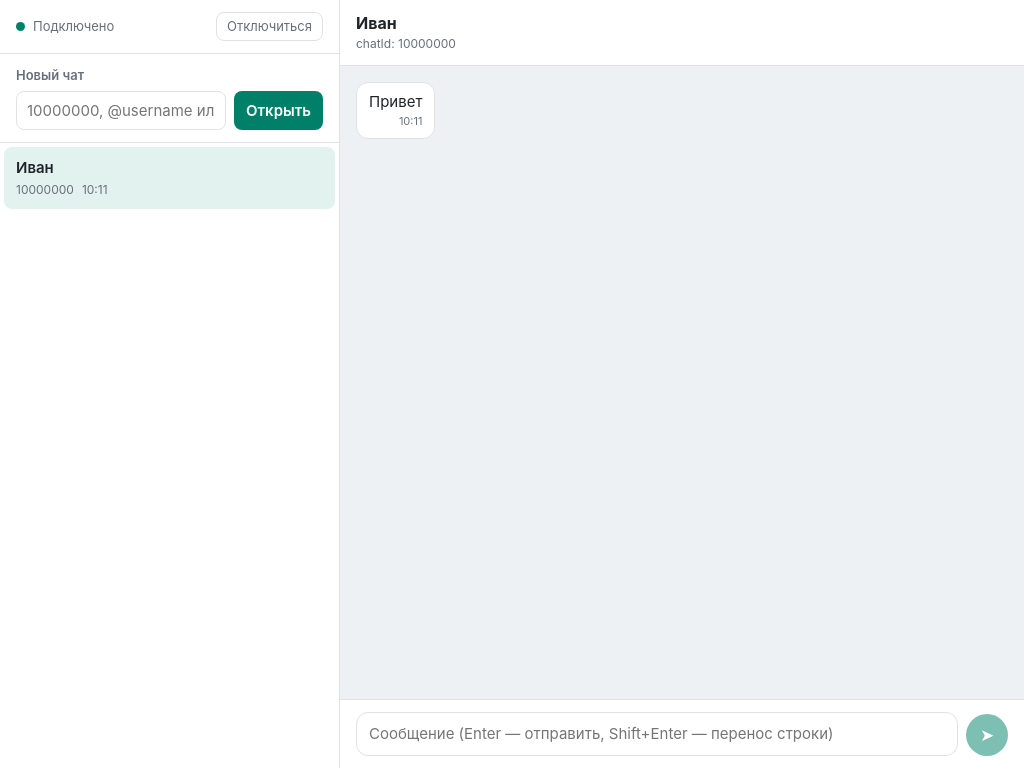
Отправка сообщений › не блокирует отправку, пока получение ожидает уведомлений
Expected: the text "Привет" is shown, [369,91,422,112]
Type "Параллельная отправка" into the text box named "Текст сообщения" at (657, 734), box [356,712,958,756]
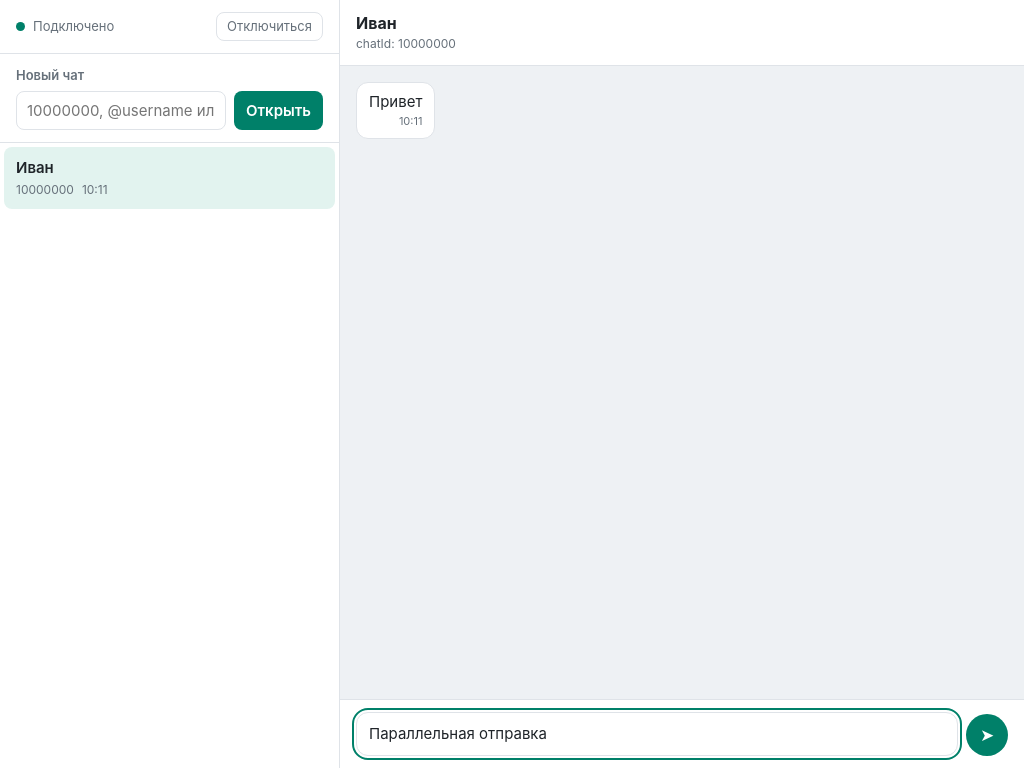
Click the button named "Отправить сообщение" at (987, 735), box [966,714,1008,756]
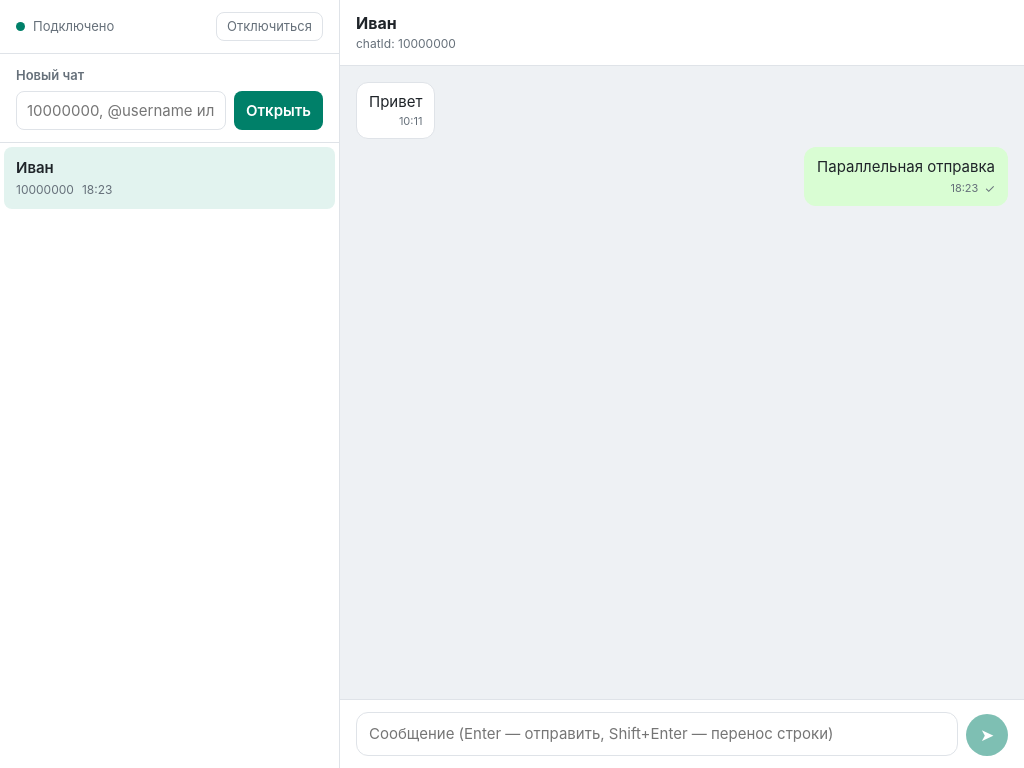
Result: the text "Параллельная отправка" is shown at [817,156,995,178]
Result: the text named "Отправлено (принято GREEN-API)" is shown at [984,180,995,197]
